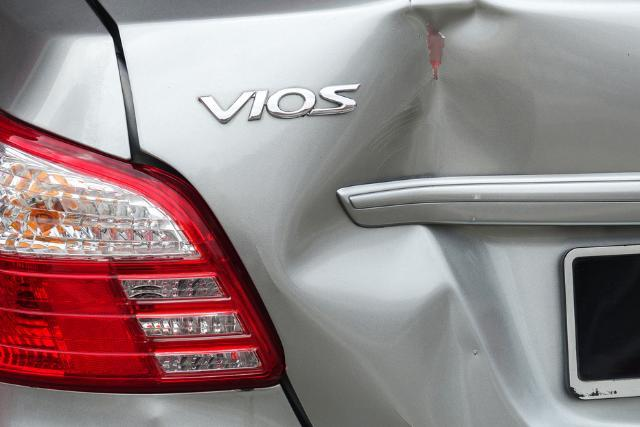Dickey: (318, 6, 606, 381)
